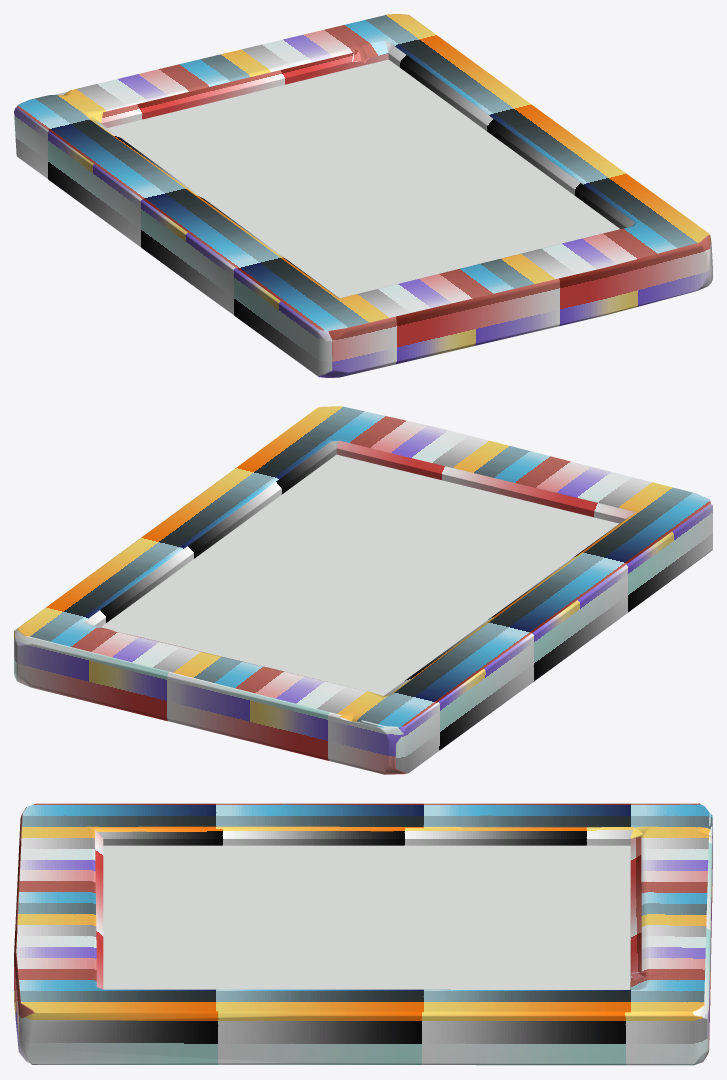
File: P_AP27Poster.glb
3 renders of one model, top to bottom at view 1: azimuth 30°, elevation 25°; view 2: azimuth 150°, elevation 25°; view 3: azimuth 270°, elevation 25°, orthographic. The views are drawn at different scales.
Parts seen in each view (by area): view 1: P_AP27Poster; view 2: P_AP27Poster; view 3: P_AP27Poster.
Boxes of the visible parts, <box> form: P_AP27Poster: <box>14,14,712,377</box>; P_AP27Poster: <box>14,406,712,774</box>; P_AP27Poster: <box>14,803,712,1065</box>.
Bounding box in the file's own units: 1.39 × 0.1674 × 1.95.
Materials: 1 (1 with a texture image).
